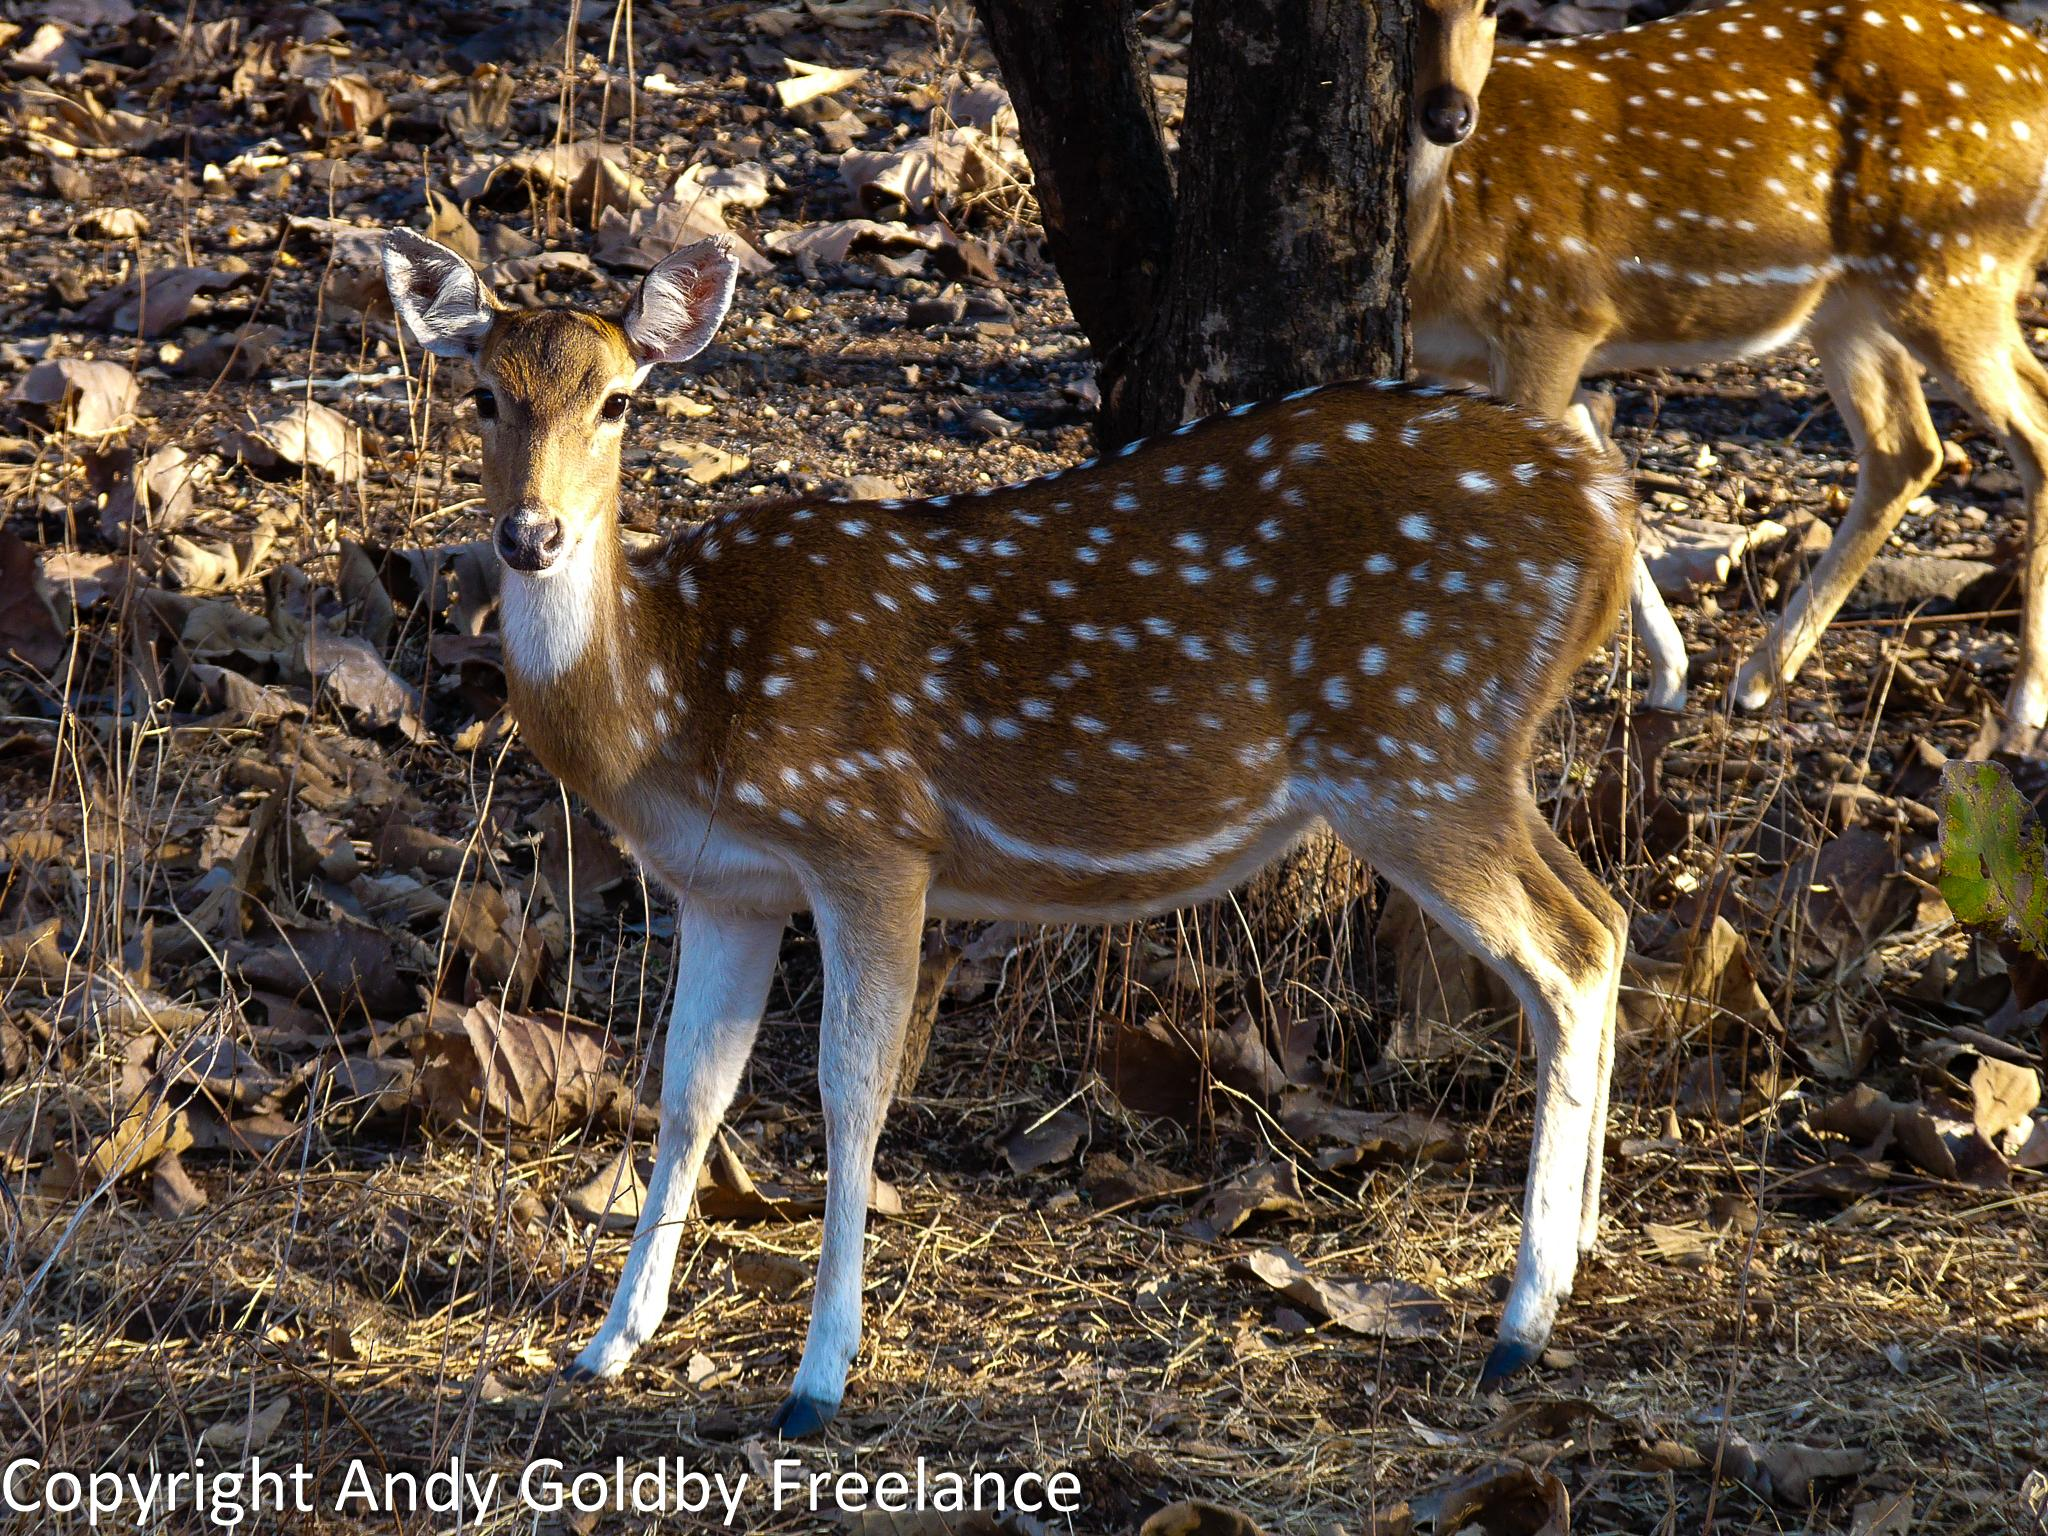Deer: (384, 229, 1634, 1433)
